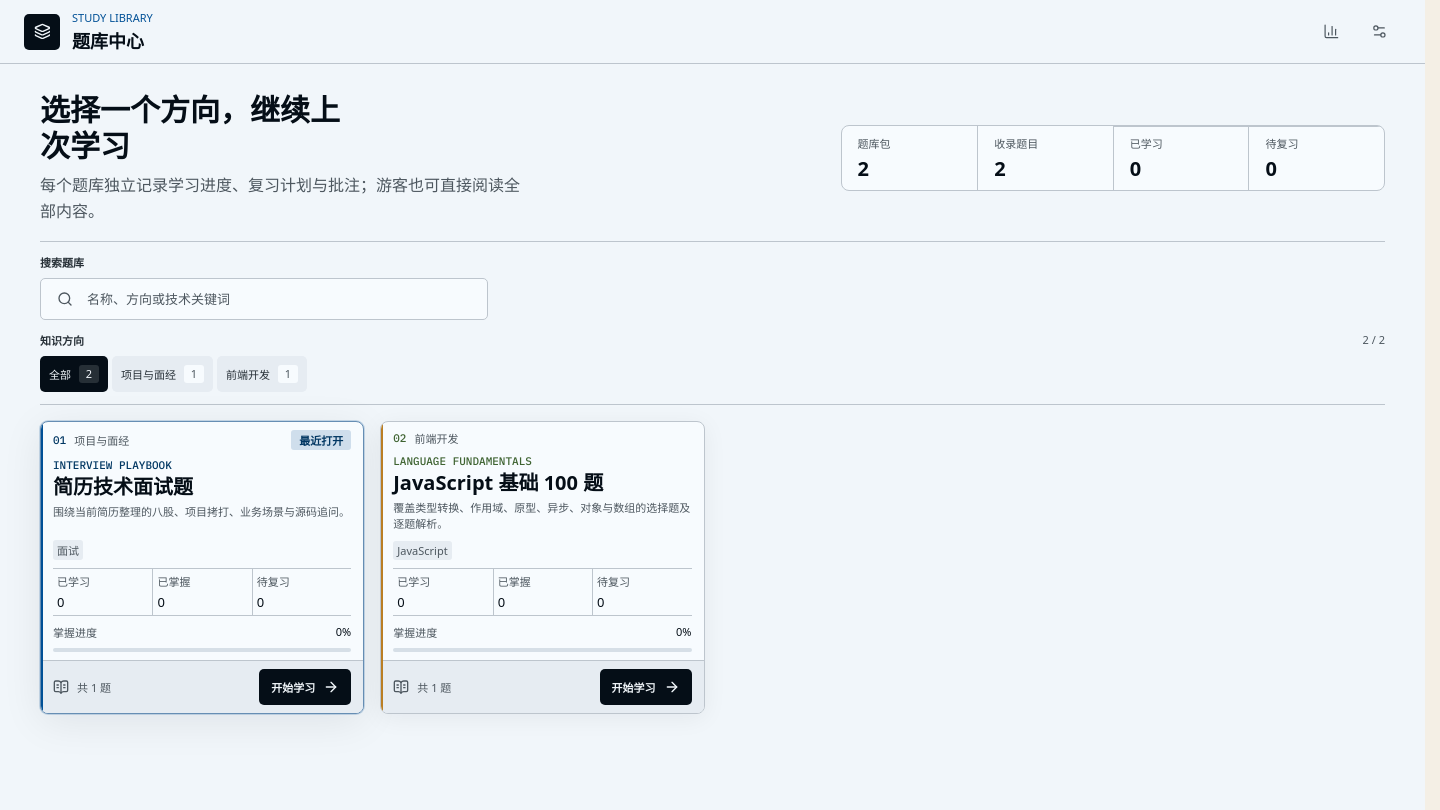
QuestionBankHub › filters packs by category without coupling navigation to JavaScript
This screenshot has width=1440, height=810.
Click the button "前端开发 1" at (262,374), box [217,356,307,392]
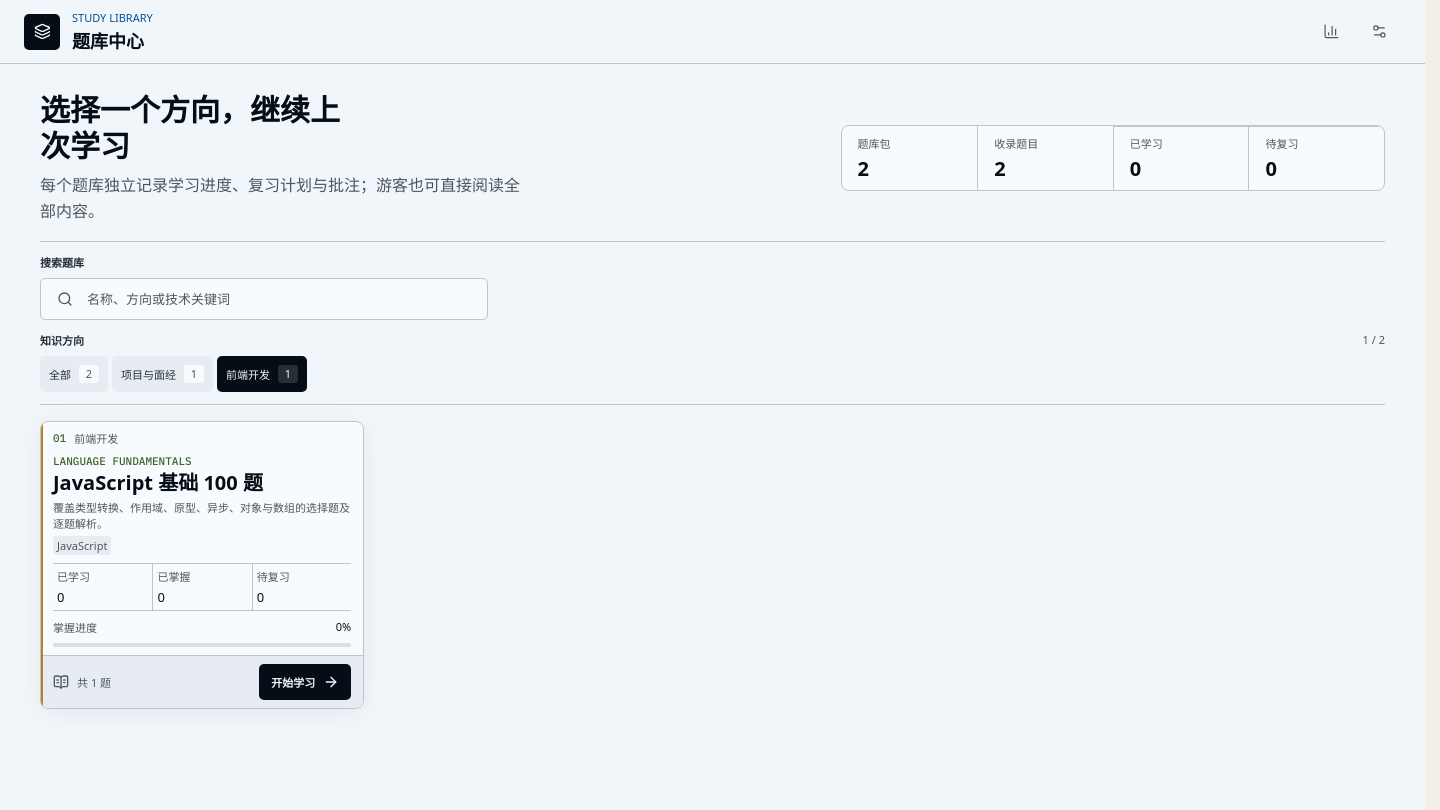
Expected: the heading "JavaScript 基础 100 题" is shown, [53,469,263,496]
Expected: the heading "简历技术面试题" is gone
